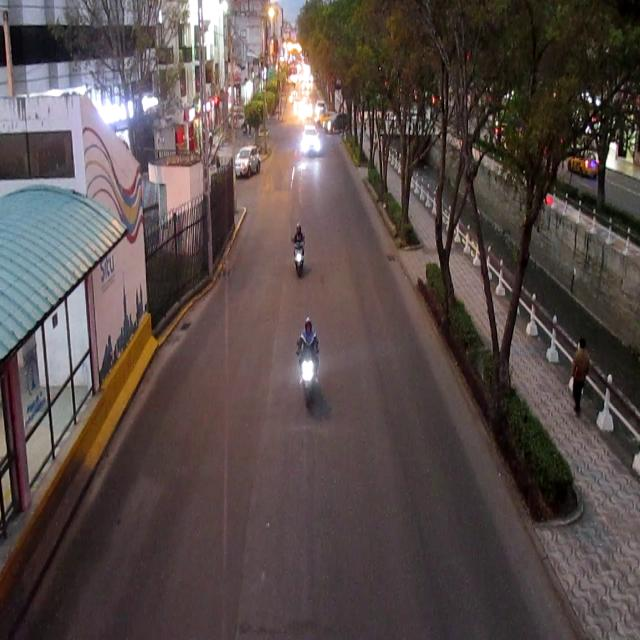MOTORCYCLE: (294, 320, 322, 404), (290, 223, 307, 276)
SUV: (236, 148, 262, 178)
